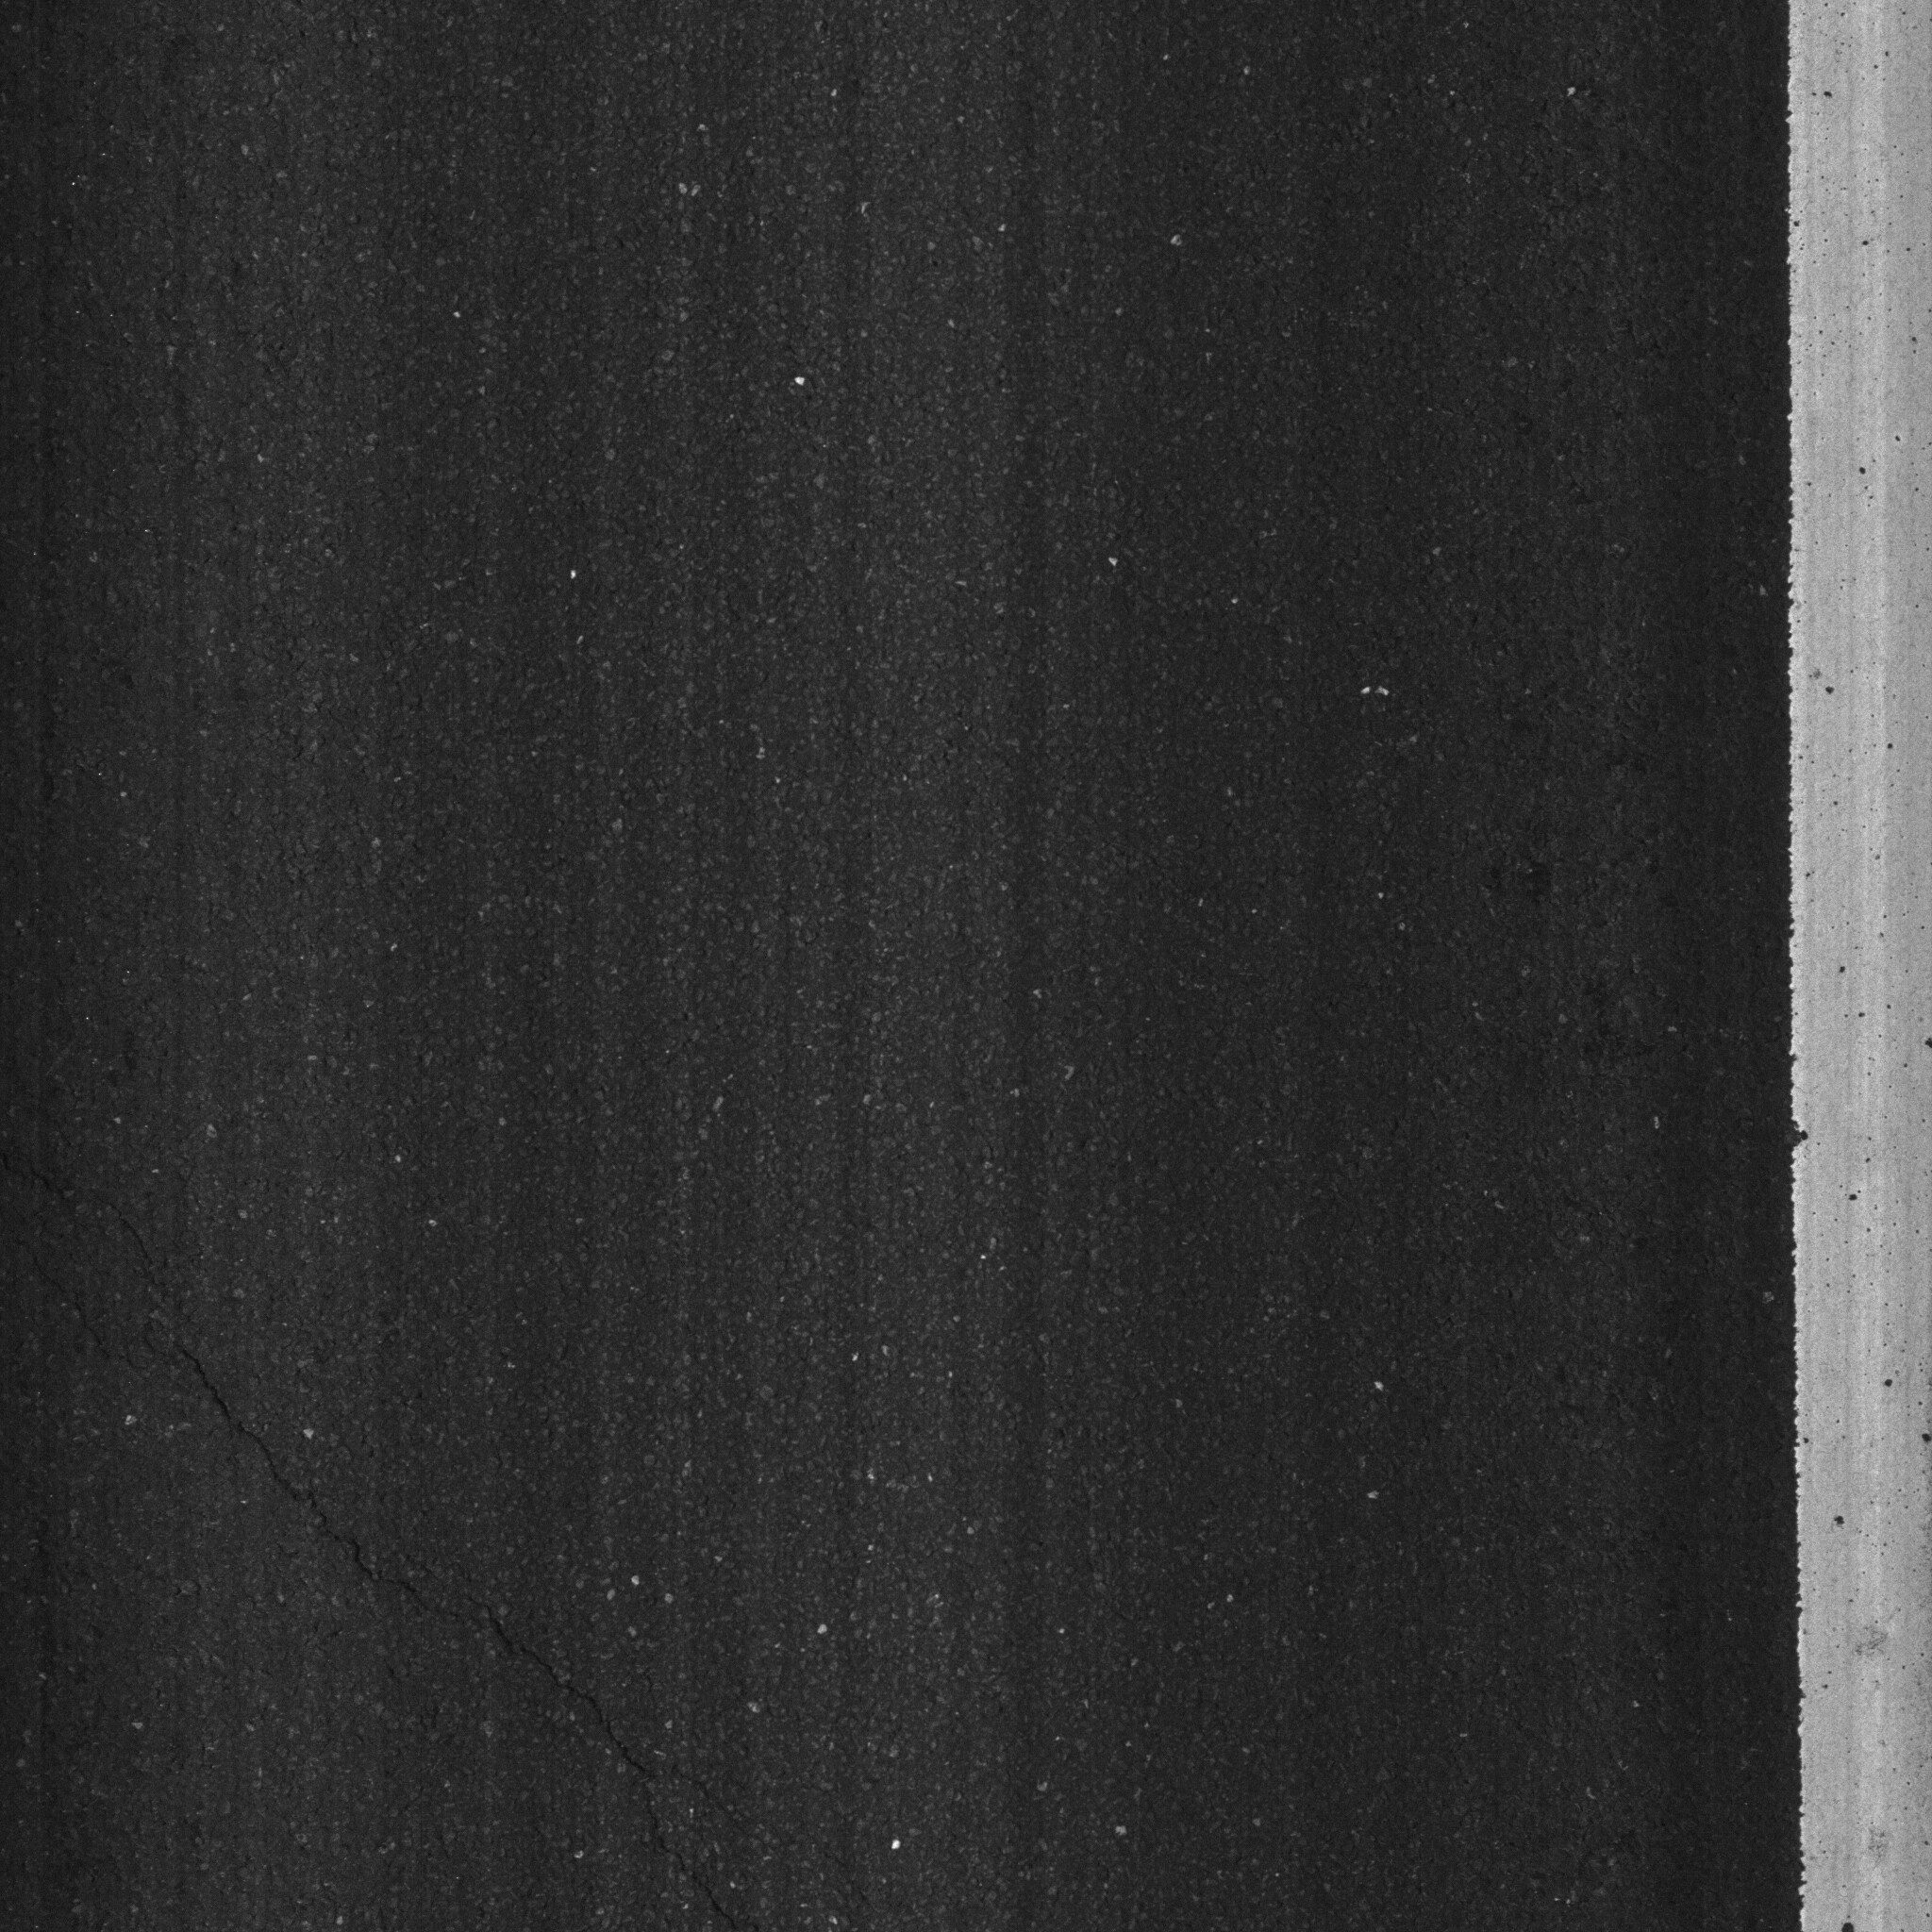longitudinal: (4, 1070, 786, 1932)
